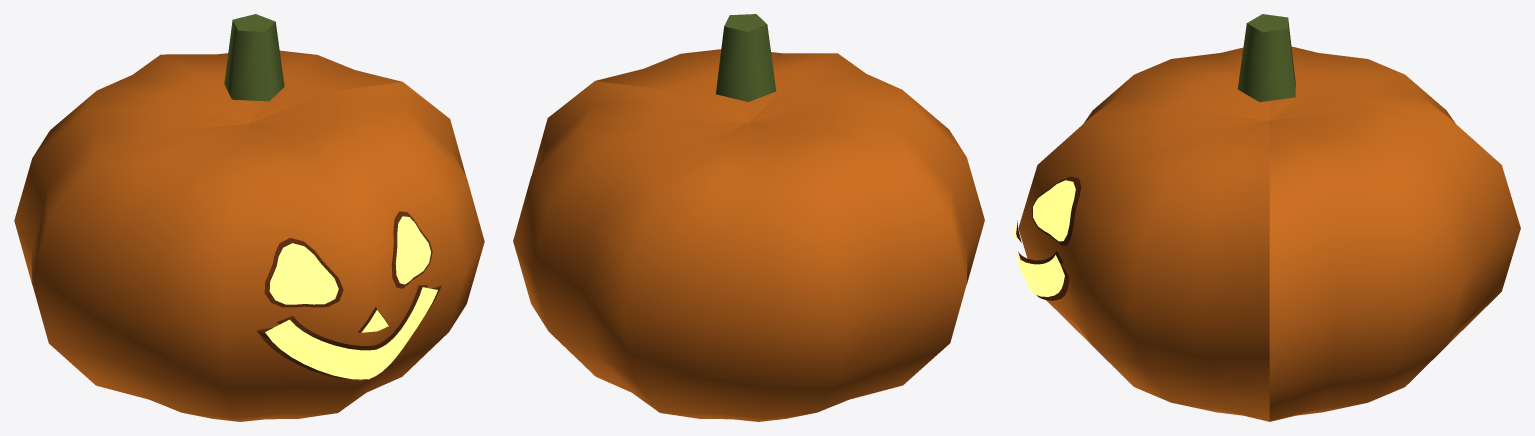
The model's file is field_jack.27434f27.glb.
3 renders of one model, left to right at view 1: azimuth 30°, elevation 25°; view 2: azimuth 150°, elevation 25°; view 3: azimuth 270°, elevation 25°, orthographic.
Parts seen in each view (by area): view 1: field_jack; view 2: field_jack; view 3: field_jack.
Part boxes in pixels (left/top/right/bottom): field_jack: left=14, top=14, right=484, bottom=421; field_jack: left=513, top=14, right=984, bottom=421; field_jack: left=1013, top=14, right=1520, bottom=421.
Bounding box in the file's own units: 1.1 × 0.9 × 1.11.
